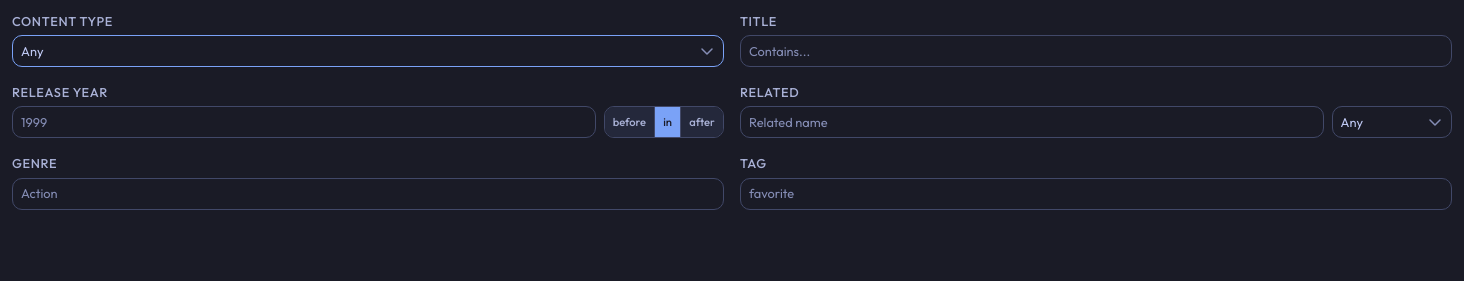
Test: SimpleFilterBuilder › build/parse round-trip - content context › renders one option per installed content type
Step 1. Click the dropdown named "Content Type" → (32, 51), box [12,35,724,67]
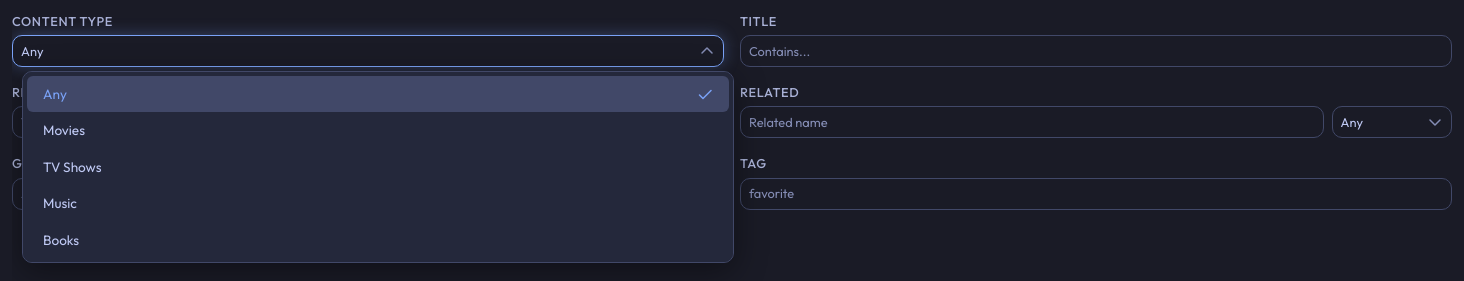
Expected: the option "Movies" is shown, [43,121,85,139]
Expected: the option "TV Shows" is shown, [43,158,102,176]
Expected: the option "Music" is shown, [43,194,77,212]
